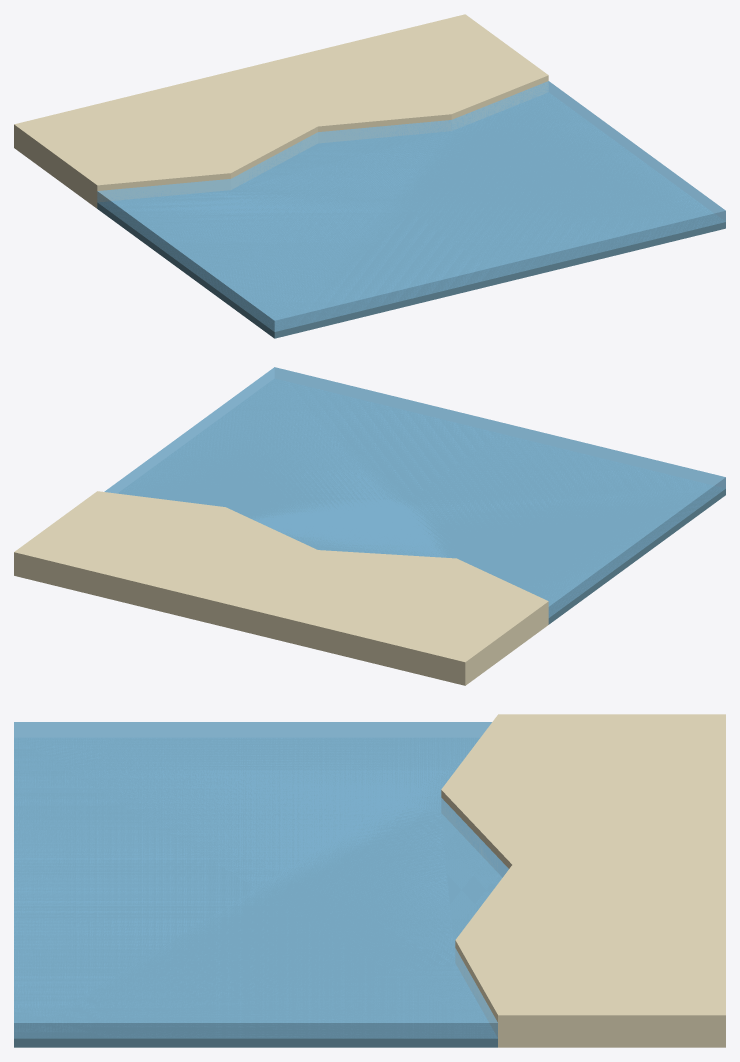
File: pond_edge.glb
The picture shows the model from 3 angles, top to bottom: view 1: azimuth 30°, elevation 25°; view 2: azimuth 150°, elevation 25°; view 3: azimuth 270°, elevation 25°; orthographic projection. The views are drawn at different scales.
Visible parts, largest first — view 1: water, land; view 2: water, land; view 3: water, land.
Boxes of the visible parts, x1,y1,x2,y2 form: water: (97,81,725,338); land: (14,14,548,208); water: (104,367,725,624); land: (14,491,548,685); water: (14,722,508,1047); land: (441,714,725,1047).
Size of the model in its own units: 1 by 0.05 by 1.
